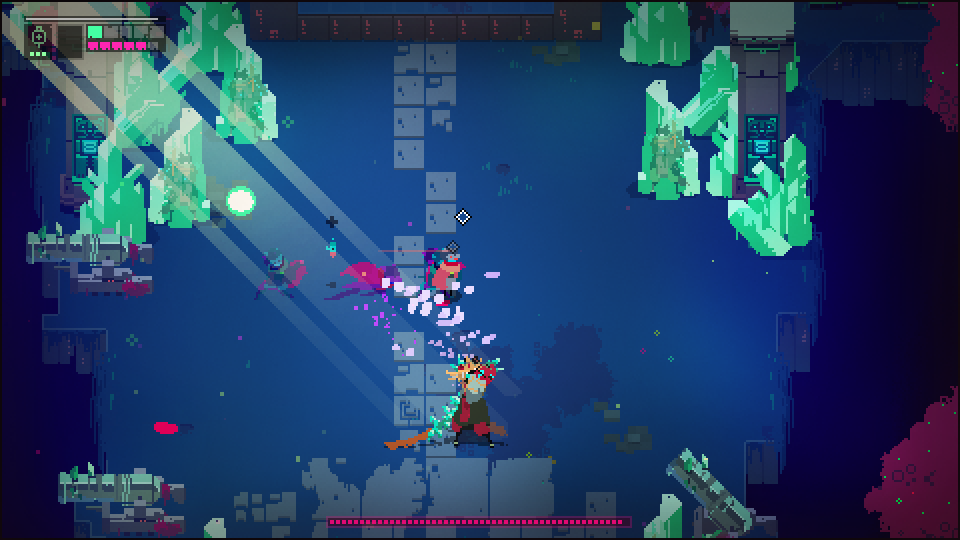hanged_man: (419, 349, 506, 449)
hanged_shot: (223, 182, 261, 217)
player: (430, 247, 465, 304)
